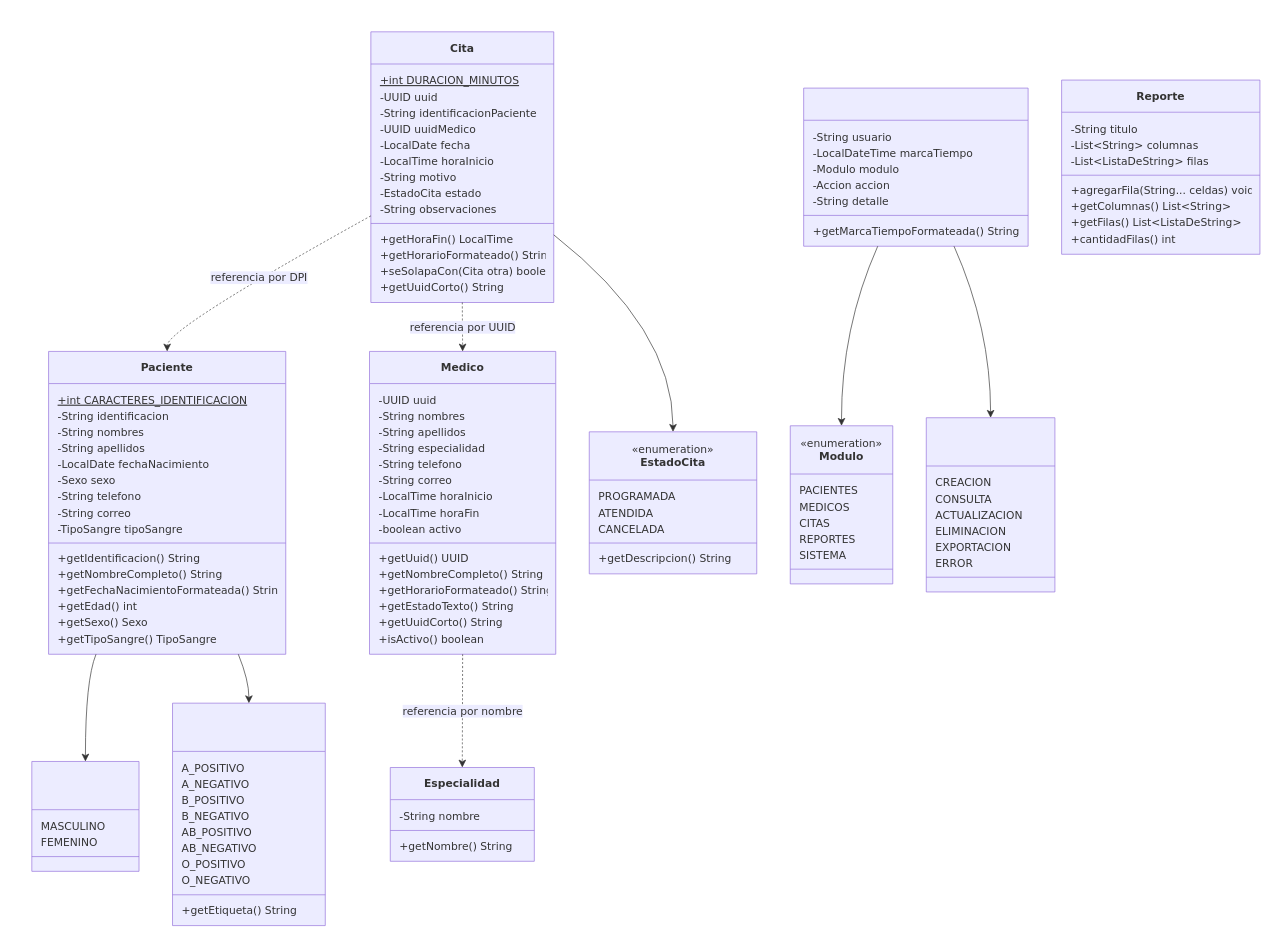
Image size: 1272x937. Some labels were removed from this diagram. The box of each missing label's shape, as (x1, y1, x2, y2) in pixels:
RegistroLog: (803, 87, 1028, 246)
«enumeration» Accion: (926, 417, 1055, 592)
«enumeration» Sexo: (31, 761, 139, 871)
«enumeration» TipoSangre: (172, 702, 325, 926)
